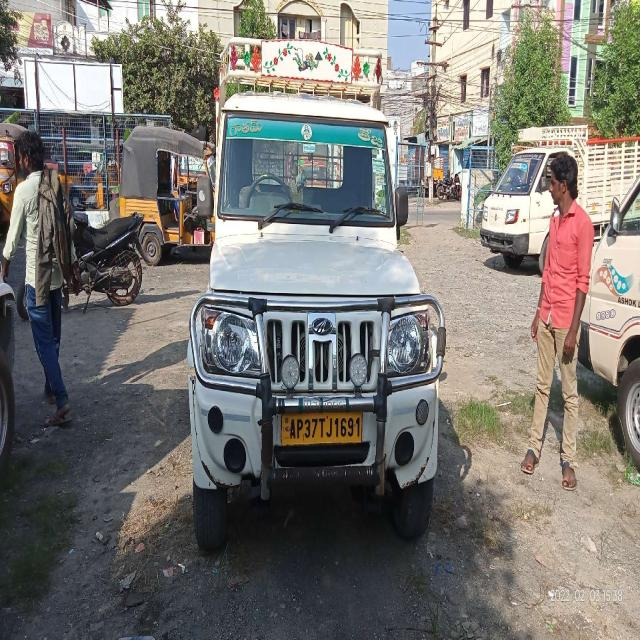light_vehicle: (186, 89, 444, 501)
